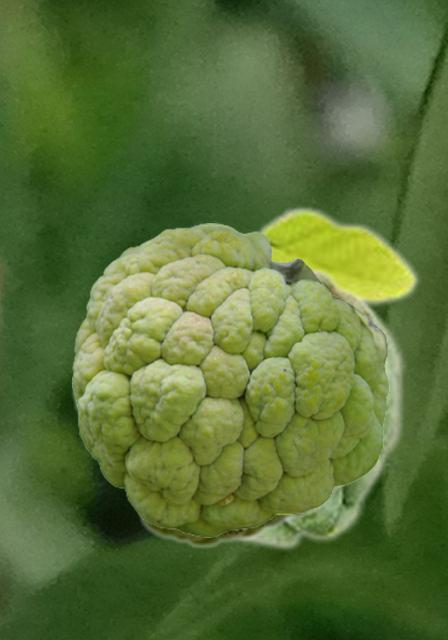atis: (72, 223, 388, 536), (69, 265, 389, 548), (194, 204, 420, 551)
